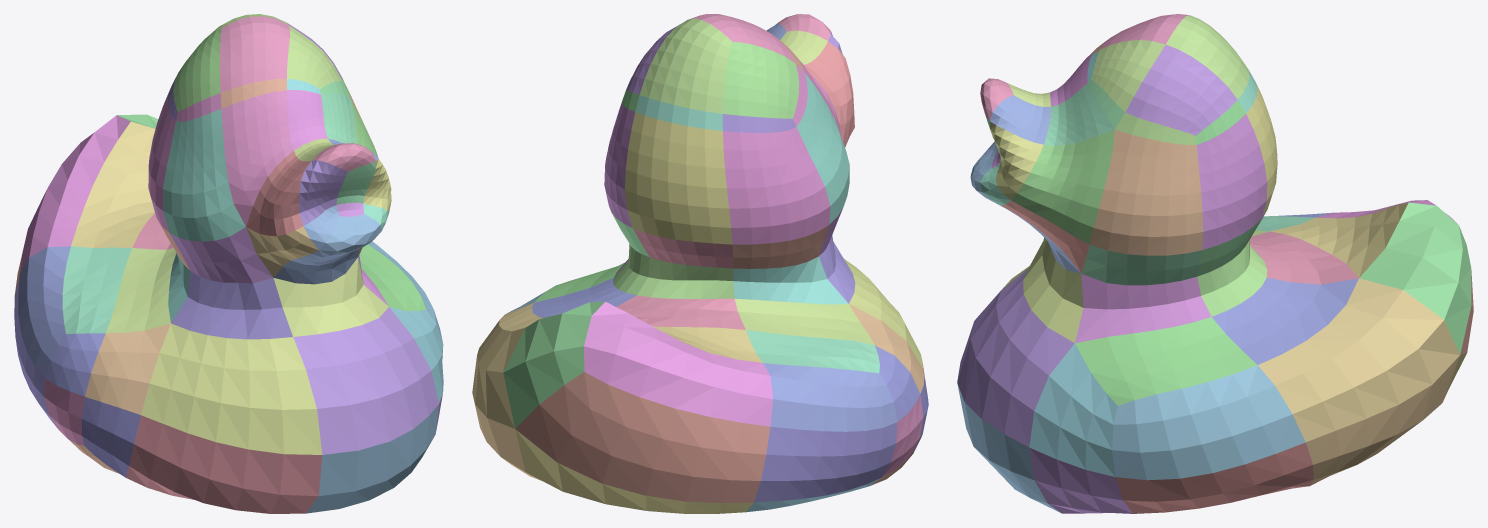
Rendered from duck_quad3_patch_color.obj.
3 views of the same model, side by side, from view 1: azimuth 30°, elevation 25°; view 2: azimuth 150°, elevation 25°; view 3: azimuth 270°, elevation 25° (orthographic). The views are drawn at different scales.
Size of the model in its own units: 69.48 by 78.19 by 81.61.
